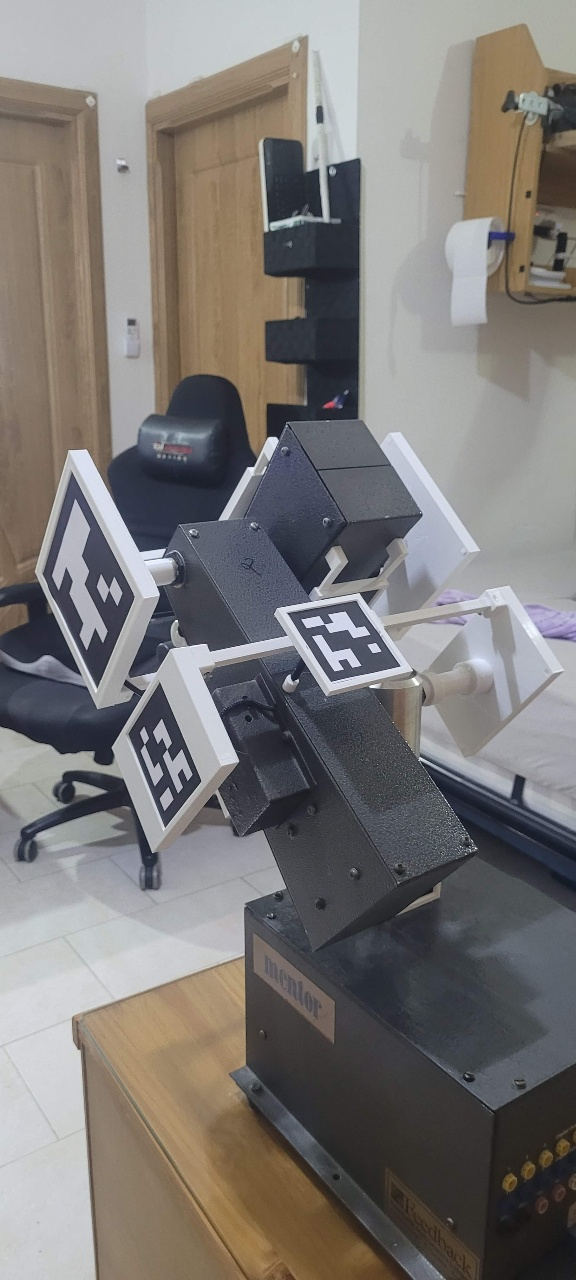Robot: (115, 264, 528, 1089)
